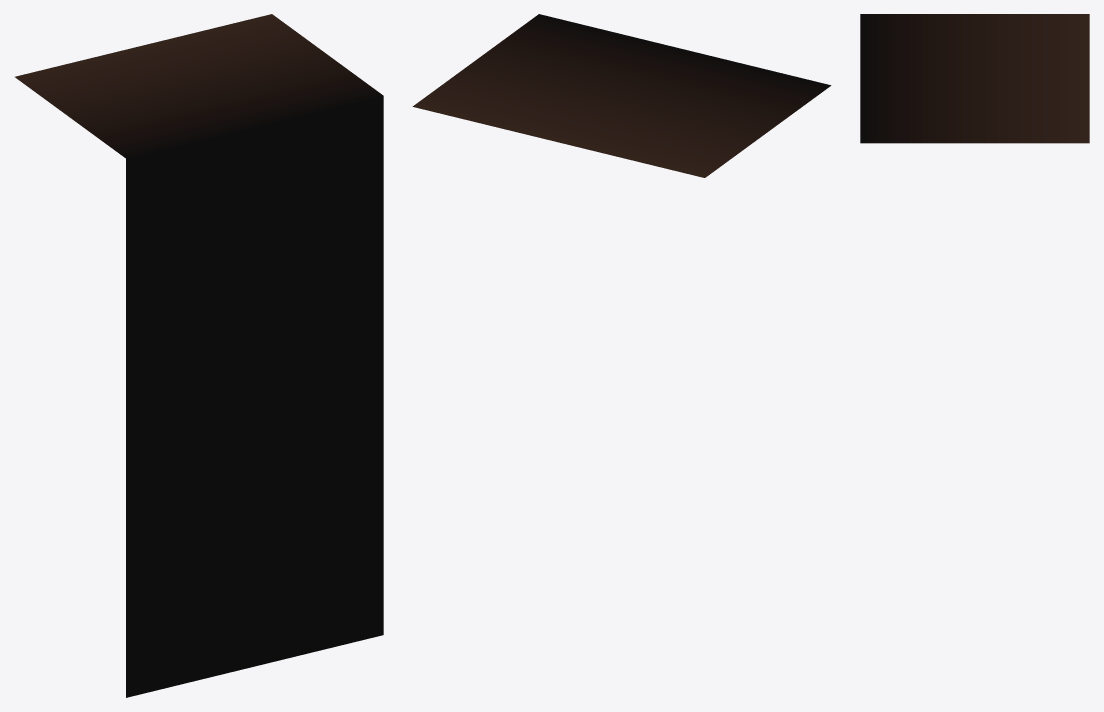
3 renders of one model, left to right at view 1: azimuth 30°, elevation 25°; view 2: azimuth 150°, elevation 25°; view 3: azimuth 270°, elevation 25°, orthographic. The views are drawn at different scales.
Bounding box in the file's own units: 1 × 2 × 0.75.
1 material, 1 textured.
